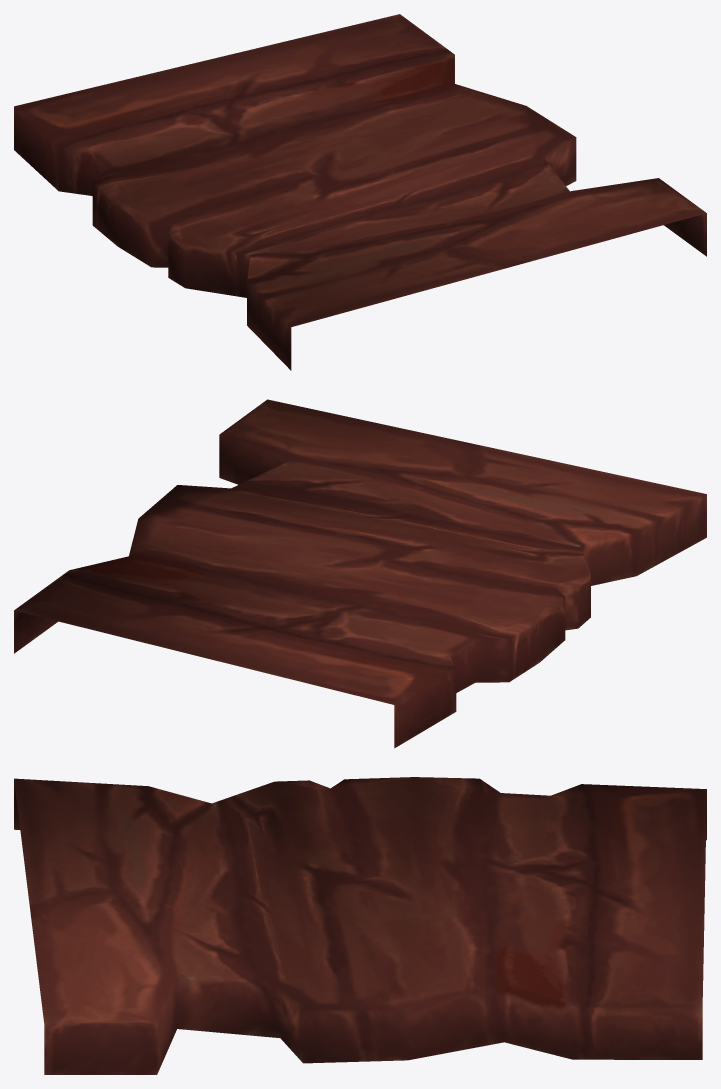
Rendered from terrain05_1.FBX.
3 views of the same model, one above another, from view 1: azimuth 30°, elevation 25°; view 2: azimuth 150°, elevation 25°; view 3: azimuth 270°, elevation 25° (orthographic). The views are drawn at different scales.
Parts seen in each view (by area): view 1: terrain05-1; view 2: terrain05-1; view 3: terrain05-1.
Part boxes in pixels (<box>): terrain05-1: <box>14,14,706,370</box>; terrain05-1: <box>14,399,706,748</box>; terrain05-1: <box>14,777,706,1074</box>.
Bounding box in the file's own units: 537 × 637 × 51.91.
